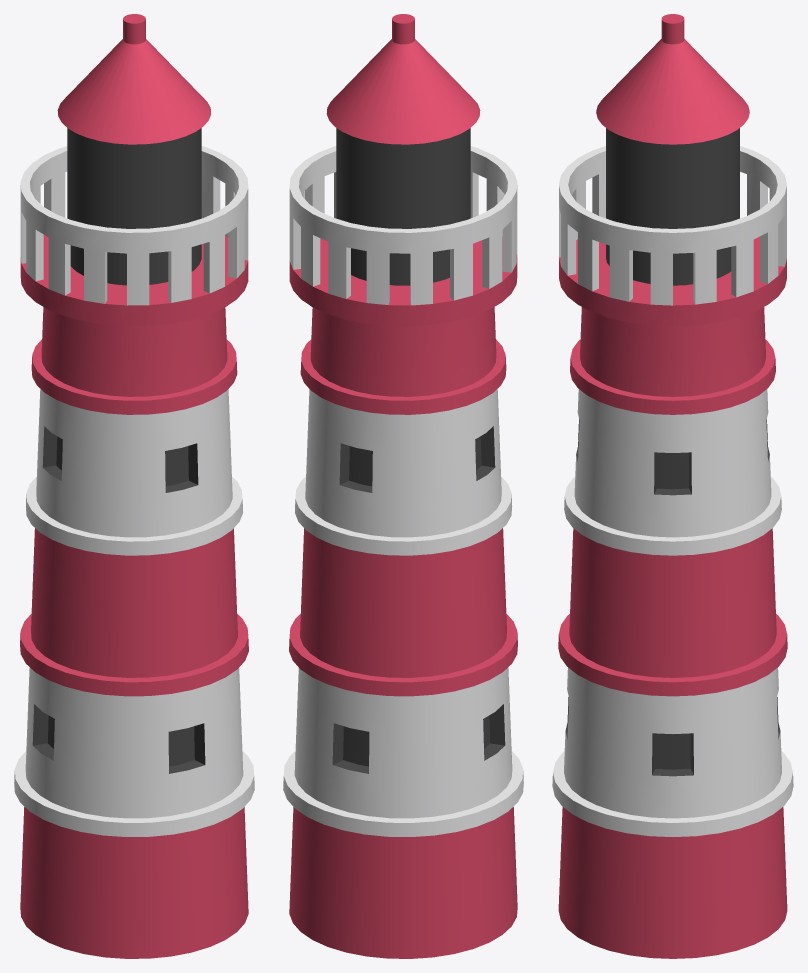
File: Lighthouse.glb
3 views of the same model, side by side, from view 1: azimuth 30°, elevation 25°; view 2: azimuth 150°, elevation 25°; view 3: azimuth 270°, elevation 25° (orthographic).
Parts seen in each view (by area): view 1: Lighthouse; view 2: Lighthouse; view 3: Lighthouse.
Boxes of the visible parts, left/top/right/bottom form: Lighthouse: left=14, top=14, right=254, bottom=958; Lighthouse: left=283, top=14, right=523, bottom=958; Lighthouse: left=552, top=14, right=793, bottom=958.
Bounding box in the file's own units: 2.11 × 8.6 × 2.11.
